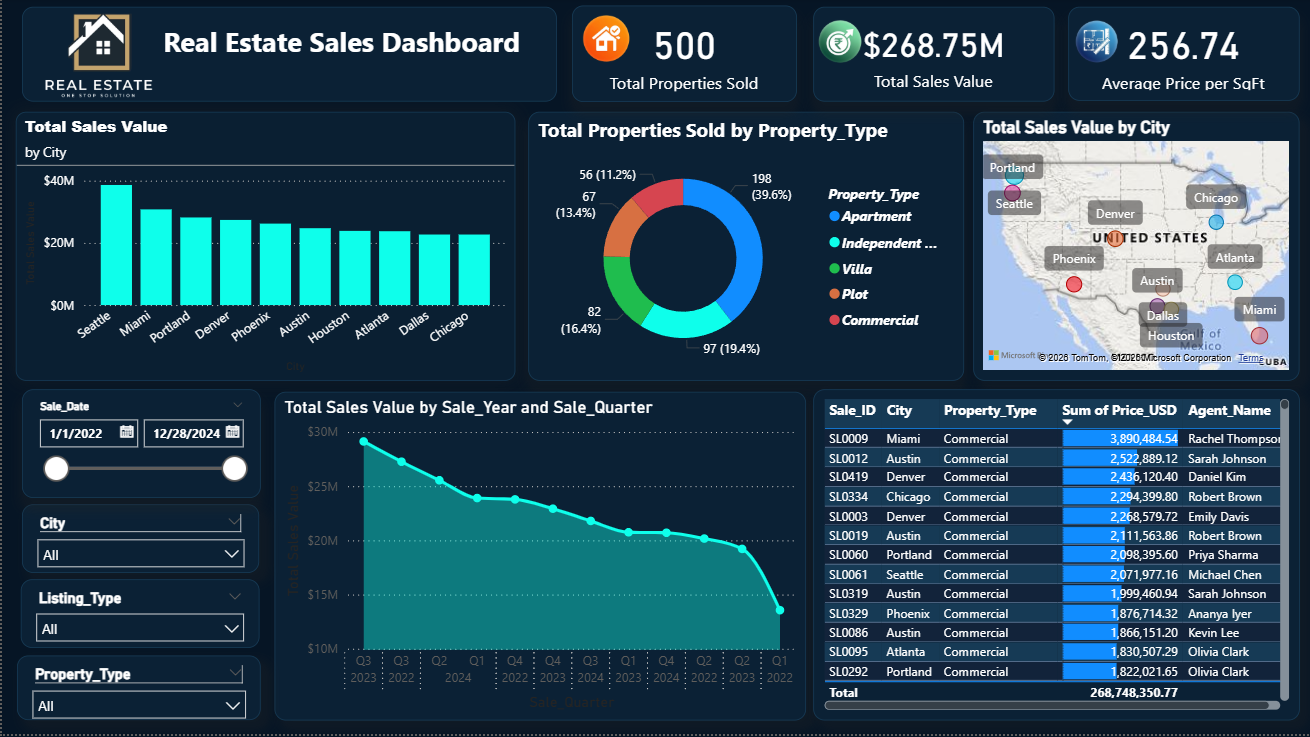

This screenshot's page, from the dashboard's own definition file:
{"tool":"powerbi","page":{"name":"Sales Overview","canvas":[1280,720],"ordinal":0},"visuals":[{"type":"lineClusteredColumnComboChart","fields":{"Y":["Property_Sales.Total Sales Value"],"Category":["Property_Sales.City"]},"box":[13.5,111.3,489.1,262.9],"z":0},{"type":"donutChart","fields":{"Category":["Property_Sales.Property_Type"],"Y":["Property_Sales.Total Properties Sold"]},"box":[514.8,111.3,426.8,262.9],"z":1000},{"type":"lineChart","fields":{"Y":["Property_Sales.Total Sales Value"],"Category":["Property_Sales.Sale_Year","Property_Sales.Sale_Quarter"]},"box":[266.6,385.2,519.7,321.6],"z":2000},{"type":"map","fields":{"Category":["Property_Sales.City"],"Size":["Property_Sales.Total Sales Value"]},"box":[950.1,111.3,319.2,262.9],"z":3000},{"type":"tableEx","fields":{"Values":["Property_Sales.Sale_ID","Property_Sales.City","Property_Sales.Property_Type","Sum(Property_Sales.Price_USD)","Agents.Agent_Name"]},"box":[793.6,382.7,475.7,324.1],"z":4000},{"type":"slicer","fields":{"Values":["Property_Sales.City"]},"box":[19.6,495,232.3,67.3],"z":5000},{"type":"slicer","fields":{"Values":["Property_Sales.Property_Type"]},"box":[14.7,643.2,238.5,63.6],"z":6000},{"type":"slicer","fields":{"Values":["Property_Sales.Listing_Type"]},"box":[18.3,569,233.6,67.3],"z":7000},{"type":"slicer","fields":{"Values":["Property_Sales.Sale_Date"]},"box":[19.6,383,233.6,106.4],"z":8000},{"type":"card","fields":{"Values":["Property_Sales.Total Sales Value"]},"box":[793.6,8.6,236,92.9],"z":9000},{"type":"card","fields":{"Values":["Property_Sales.Total Properties Sold"]},"box":[557.6,7.3,220.1,94.2],"z":10000},{"type":"card","fields":{"Values":["Property_Sales.Average Price per SqFt"]},"box":[1043.1,8.6,226.2,91.7],"z":11000},{"type":"textbox","box":[19.6,8.6,523.4,92.9],"z":12000},{"type":"image","box":[527,0,128.4,79.5],"z":13001},{"type":"image","box":[760.6,7.3,118.6,70.9],"z":13002},{"type":"image","box":[1012.5,6.1,117.4,73.4],"z":13003},{"type":"image","box":[34.2,0,123.5,111.3],"z":13004}]}

Visuals, with their boxes in screenshot pixels (x1, y1, x2, y2), scaled from the page's 1280x720 canvas onto the 1310x737 screenshot:
lineClusteredColumnComboChart - Property_Sales.Total Sales Value x Property_Sales.City: {"left": 14, "top": 114, "right": 514, "bottom": 383}
donutChart - Property_Sales.Property_Type x Property_Sales.Total Properties Sold: {"left": 527, "top": 114, "right": 964, "bottom": 383}
lineChart - Property_Sales.Total Sales Value x Property_Sales.Sale_Year: {"left": 273, "top": 394, "right": 805, "bottom": 723}
map - Property_Sales.City x Property_Sales.Total Sales Value: {"left": 972, "top": 114, "right": 1299, "bottom": 383}
tableEx - Property_Sales.Sale_ID x Property_Sales.City: {"left": 812, "top": 392, "right": 1299, "bottom": 723}
slicer - Property_Sales.City: {"left": 20, "top": 507, "right": 258, "bottom": 576}
slicer - Property_Sales.Property_Type: {"left": 15, "top": 658, "right": 259, "bottom": 723}
slicer - Property_Sales.Listing_Type: {"left": 19, "top": 582, "right": 258, "bottom": 651}
slicer - Property_Sales.Sale_Date: {"left": 20, "top": 392, "right": 259, "bottom": 501}
card - Property_Sales.Total Sales Value: {"left": 812, "top": 9, "right": 1054, "bottom": 104}
card - Property_Sales.Total Properties Sold: {"left": 571, "top": 7, "right": 796, "bottom": 104}
card - Property_Sales.Average Price per SqFt: {"left": 1068, "top": 9, "right": 1299, "bottom": 103}
textbox: {"left": 20, "top": 9, "right": 556, "bottom": 104}
image: {"left": 539, "top": 0, "right": 671, "bottom": 81}
image: {"left": 778, "top": 7, "right": 900, "bottom": 80}
image: {"left": 1036, "top": 6, "right": 1156, "bottom": 81}
image: {"left": 35, "top": 0, "right": 161, "bottom": 114}
